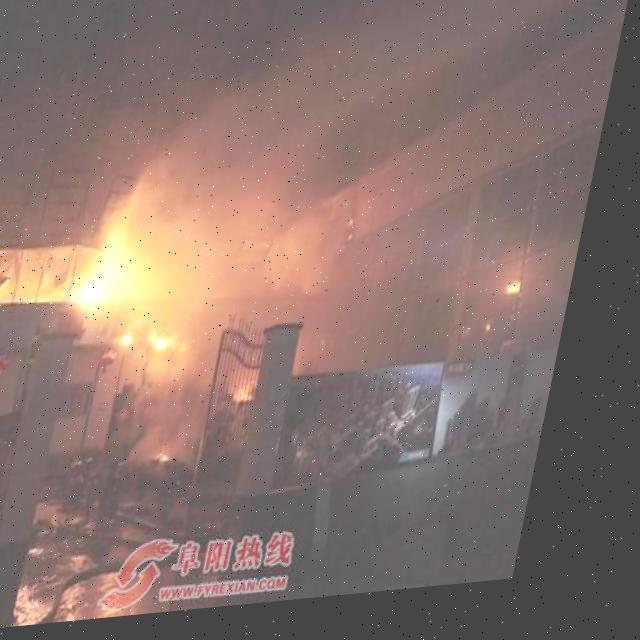Fire: (78, 230, 161, 331), (159, 328, 196, 359), (130, 333, 150, 355)
